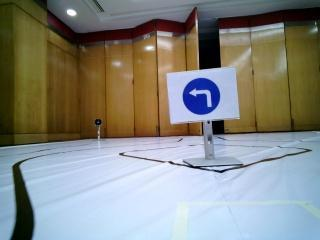left: (169, 74, 237, 117)
